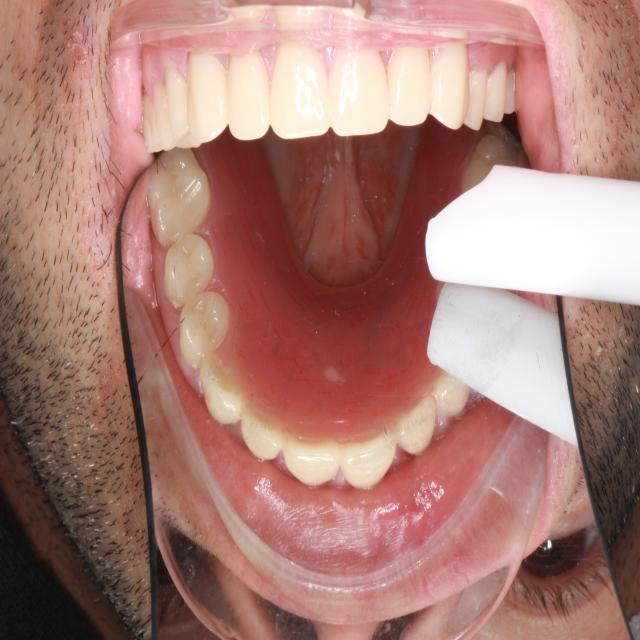tooth: (134, 144, 215, 249), (277, 413, 345, 499), (173, 285, 232, 379), (158, 229, 219, 312), (335, 417, 395, 499), (454, 129, 521, 201), (193, 343, 247, 431), (239, 388, 287, 470), (388, 394, 438, 462), (429, 364, 474, 421)
